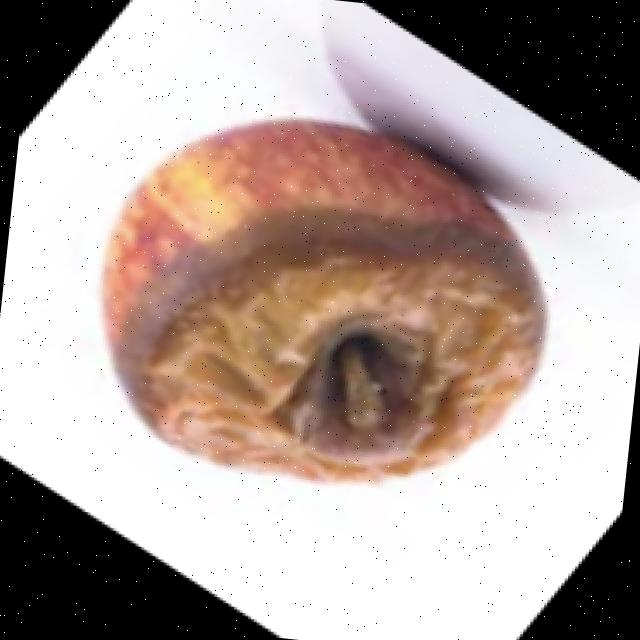Rotten: (71, 94, 566, 514)
